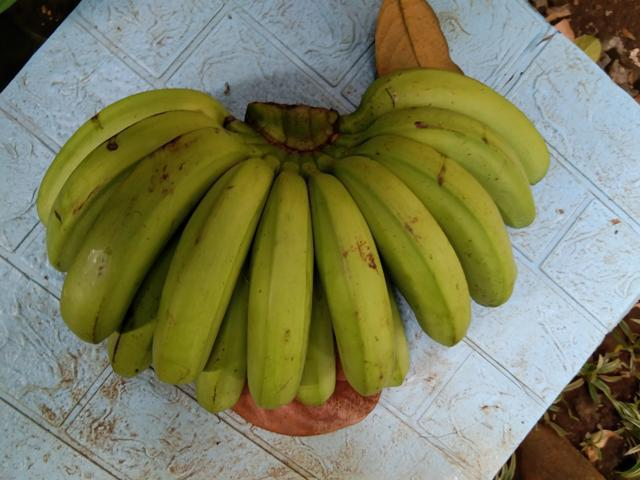freshunripe: (142, 150, 276, 391), (238, 170, 316, 409)
unripe: (48, 128, 245, 345), (32, 99, 201, 273), (363, 125, 519, 301), (309, 157, 412, 403), (339, 154, 471, 336)
